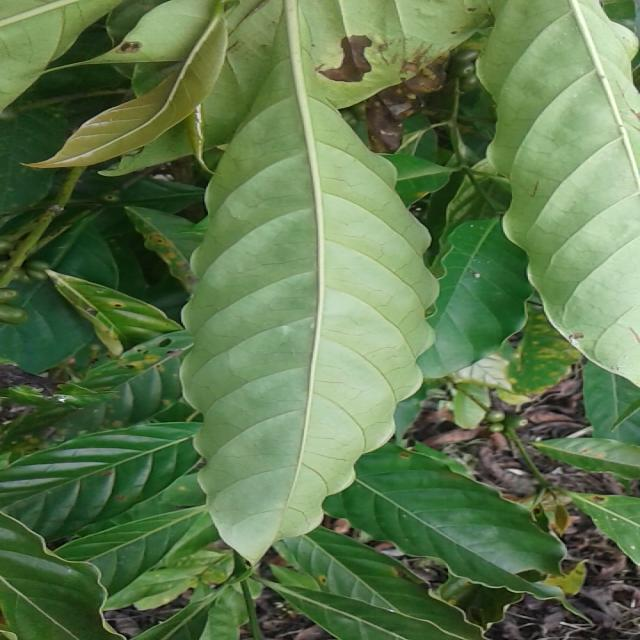Sanas: (180, 52, 436, 568)
